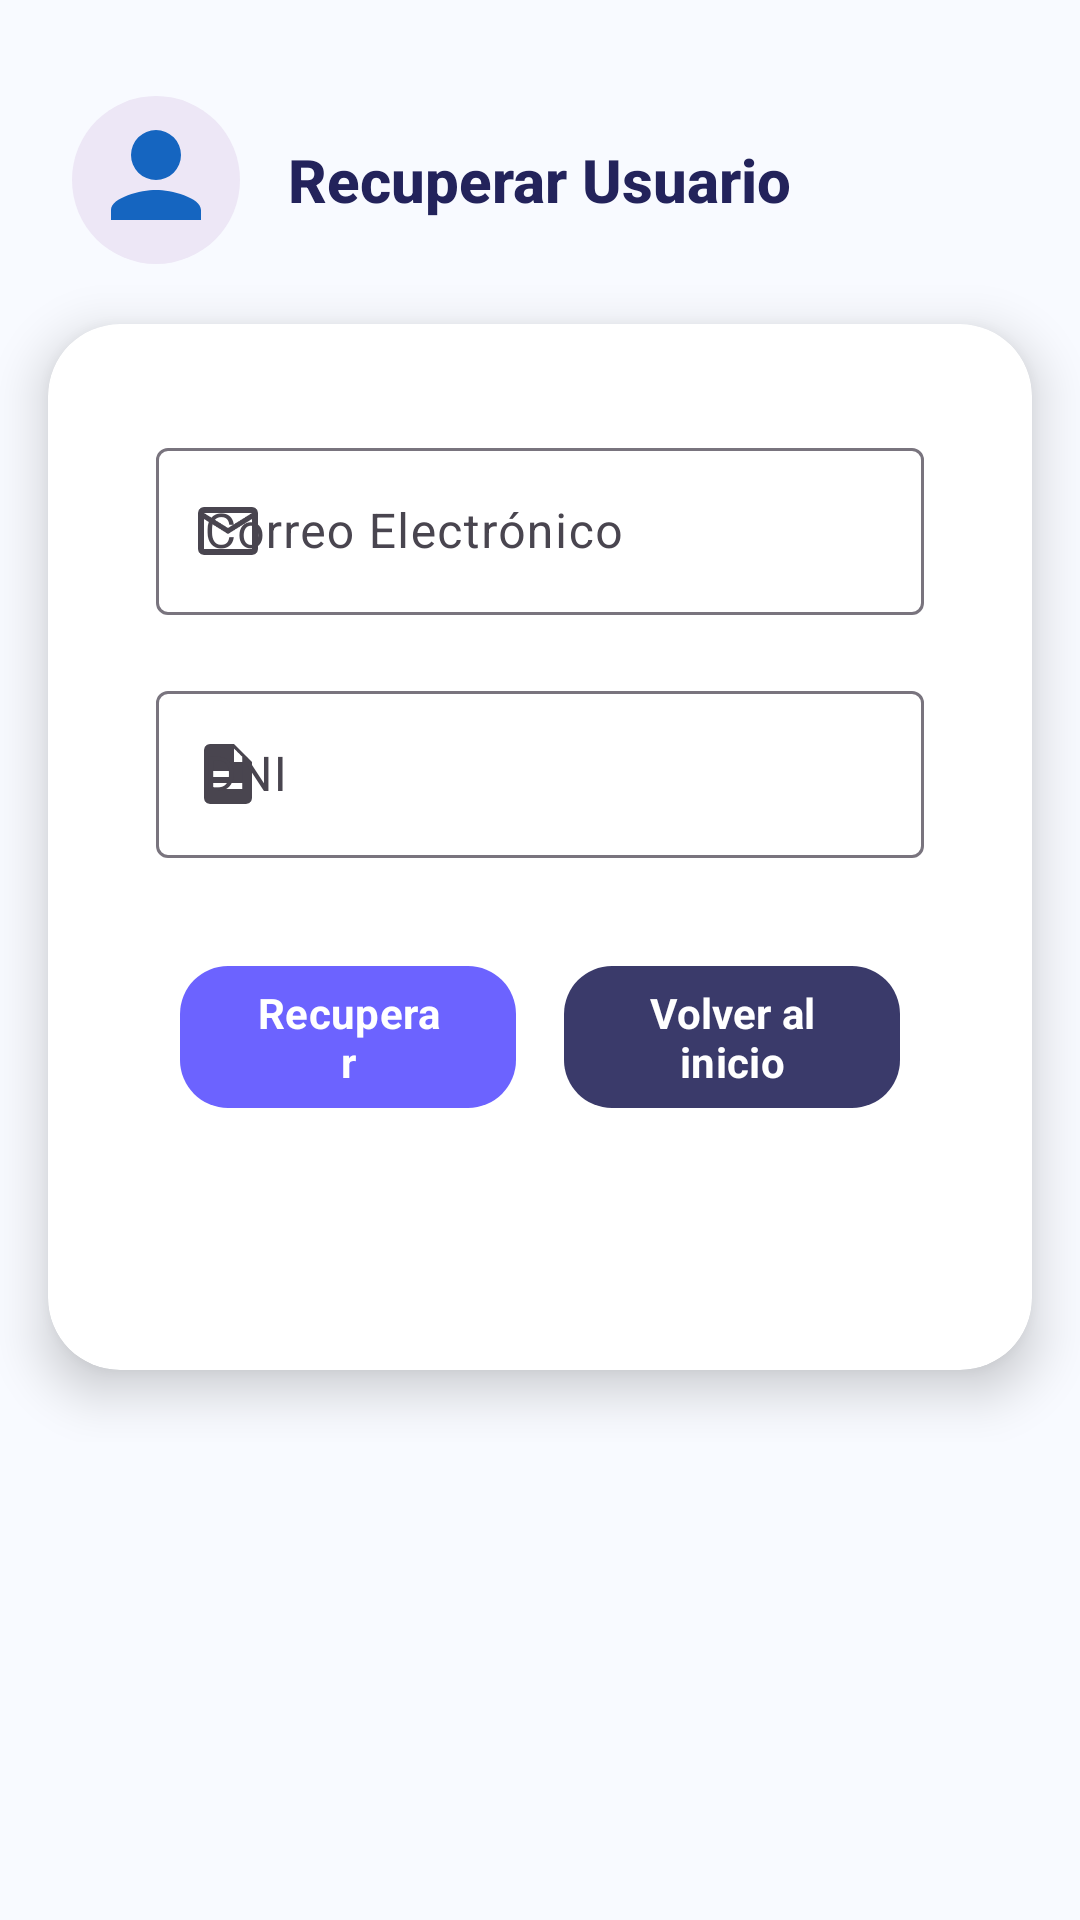

Named icons in this screenshot (1080 × 1920) and their centers, (x=x, y=y):
Avatar: (x=156, y=175)
